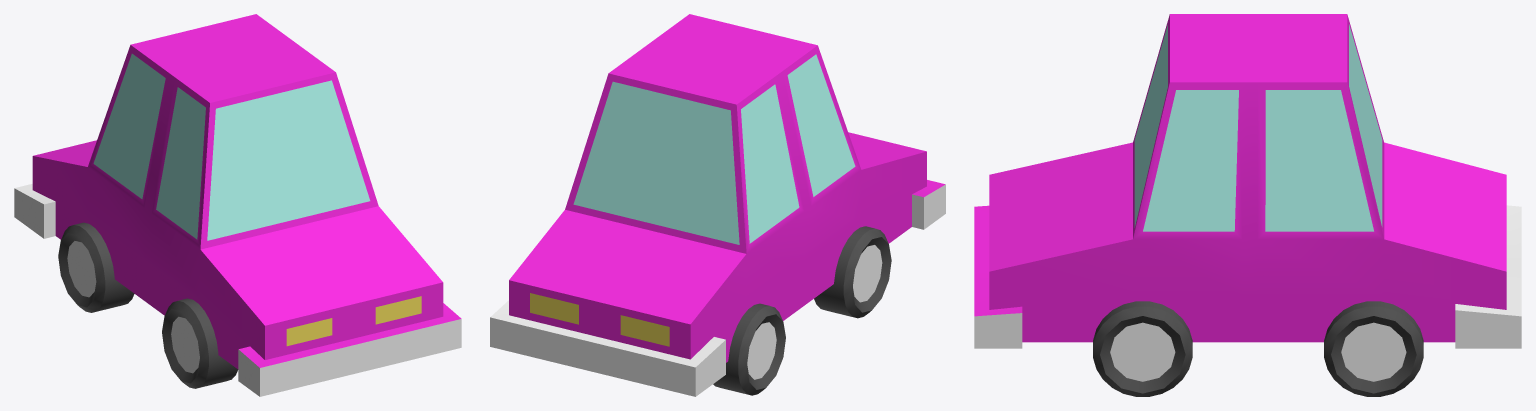
Rendered from basic car purple.fbx.
3 views of the same model, side by side, from view 1: azimuth 30°, elevation 25°; view 2: azimuth 150°, elevation 25°; view 3: azimuth 270°, elevation 25° (orthographic). The views are drawn at different scales.
Parts seen in each view (by area): view 1: body, pCylinder10, pCylinder9; view 2: body, pCylinder9, pCylinder10; view 3: body, pCylinder7, pCylinder8.
Part boxes in pixels (left/top/right/bottom): body: left=14, top=14, right=461, bottom=396; pCylinder10: left=58, top=222, right=134, bottom=312; pCylinder9: left=162, top=298, right=237, bottom=388; body: left=490, top=14, right=945, bottom=396; pCylinder9: left=814, top=226, right=891, bottom=318; pCylinder10: left=713, top=303, right=785, bottom=395; body: left=974, top=14, right=1521, bottom=348; pCylinder7: left=1093, top=301, right=1192, bottom=396; pCylinder8: left=1324, top=301, right=1423, bottom=396.
Size of the model in its own units: 40.85 by 49.54 by 83.34.
Materials: 1 (1 with a texture image).
